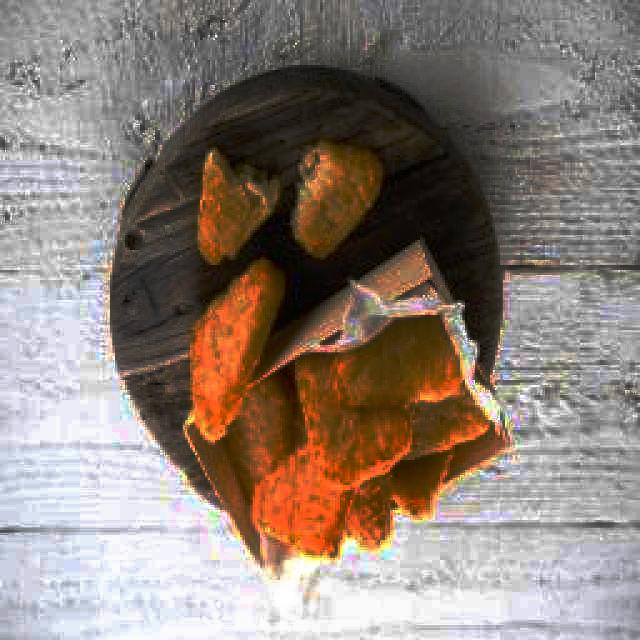Hashbrown: (191, 258, 286, 438), (296, 350, 412, 489), (341, 317, 463, 410), (251, 446, 352, 558), (288, 139, 382, 259), (194, 150, 278, 263), (223, 379, 292, 498), (388, 449, 457, 517), (339, 472, 399, 545)
